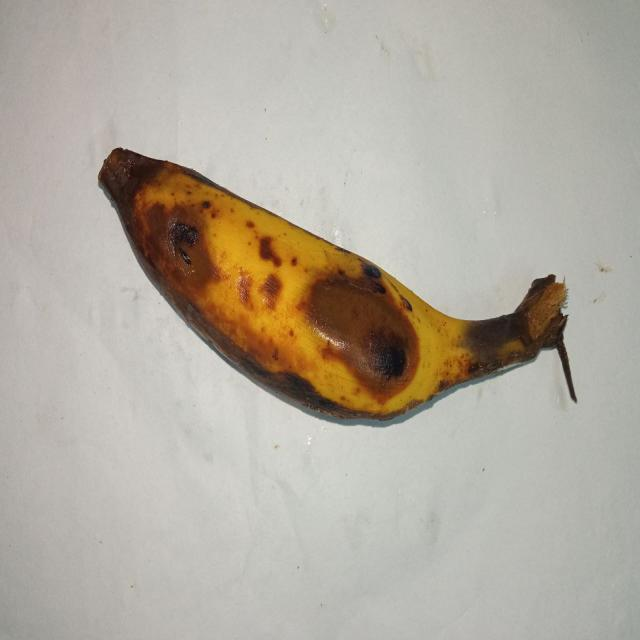rotten_banana: (102, 144, 537, 434)
